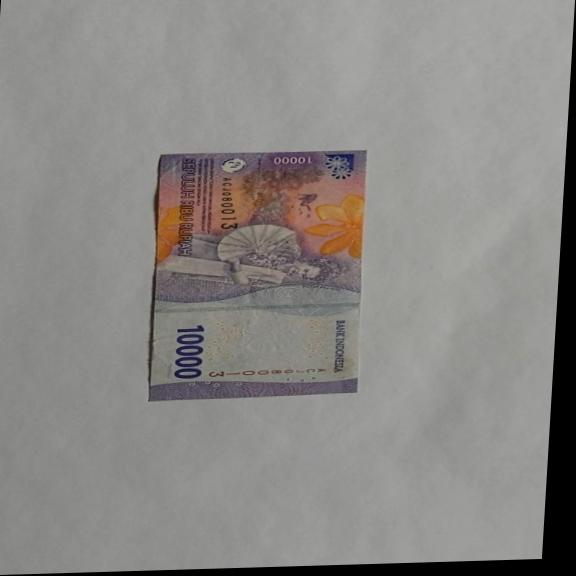Kertas: (142, 148, 372, 402), (172, 323, 208, 380)
